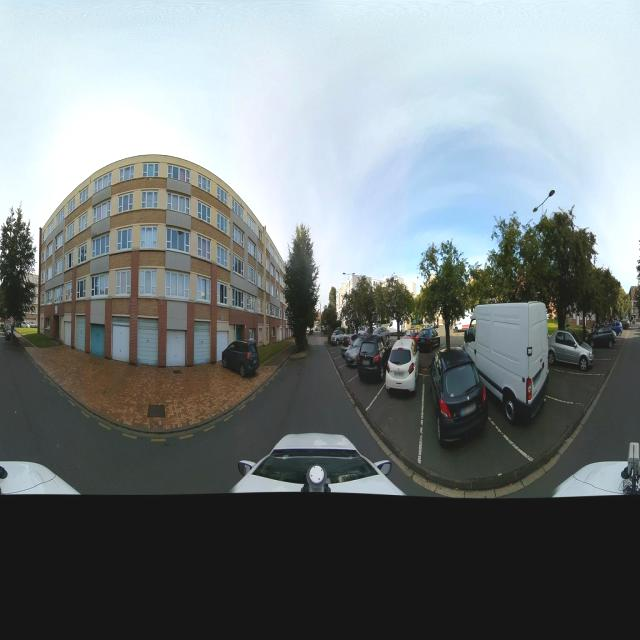car: (462, 301, 550, 425), (426, 347, 488, 447), (548, 329, 595, 371), (385, 344, 418, 396), (221, 338, 260, 378), (357, 338, 387, 382), (345, 336, 369, 366), (589, 325, 617, 346), (331, 328, 351, 346), (612, 319, 623, 333)
